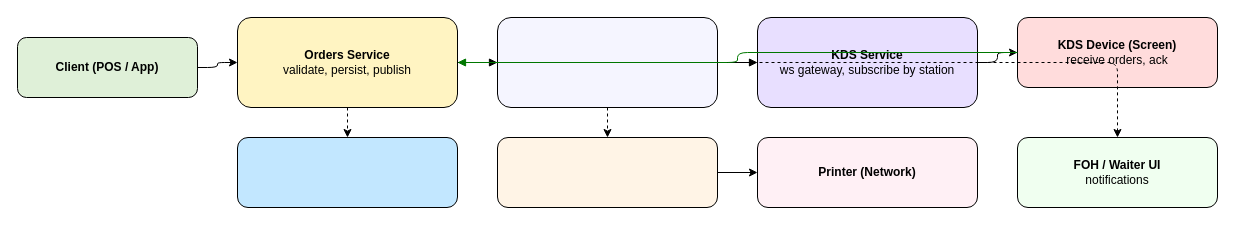
Image size: 1235x225. Some labels were removed from this diagram. The shapes that lost their labels are listed below. From the top down, each one's box as (x1, y1, x2, y2) in pixels, then its label:
(496, 16, 718, 108): Event Broker RabbitMQ / Kafka / Redis
(236, 136, 458, 208): MongoDB (Primary)
(496, 136, 718, 208): Printing Service print tickets
